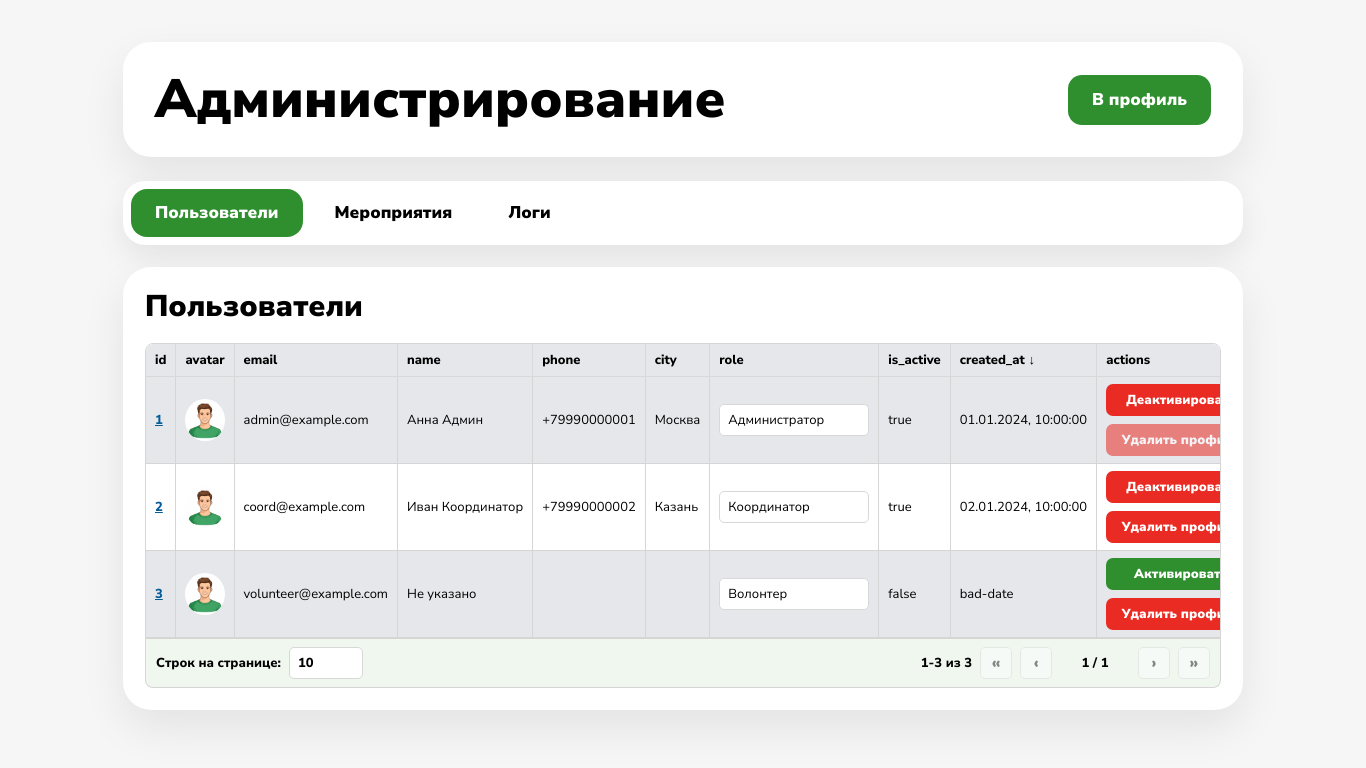
Test: AdminPage › renders events table
expect the text "admin@example.com" is shown: met, box top-left (234, 377), bottom-right (398, 464)
Click the button "Мероприятия". click: point(393, 213)
box: top-left (310, 189), bottom-right (476, 237)
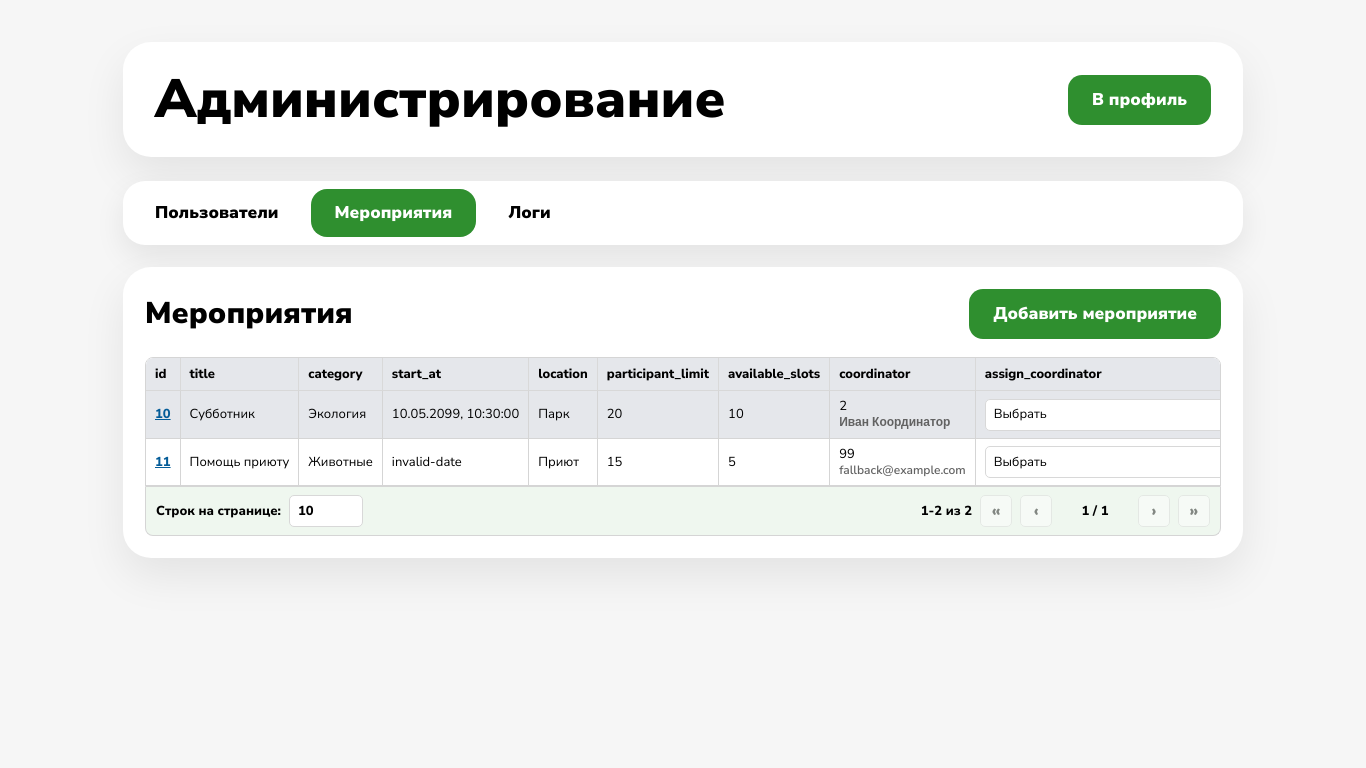
expect the heading "Мероприятия" is shown: met, box top-left (145, 296), bottom-right (353, 332)
expect the text "Субботник" is shown: met, box top-left (180, 391), bottom-right (299, 438)
expect the text "Помощь приюту" is shown: met, box top-left (180, 438), bottom-right (299, 486)
